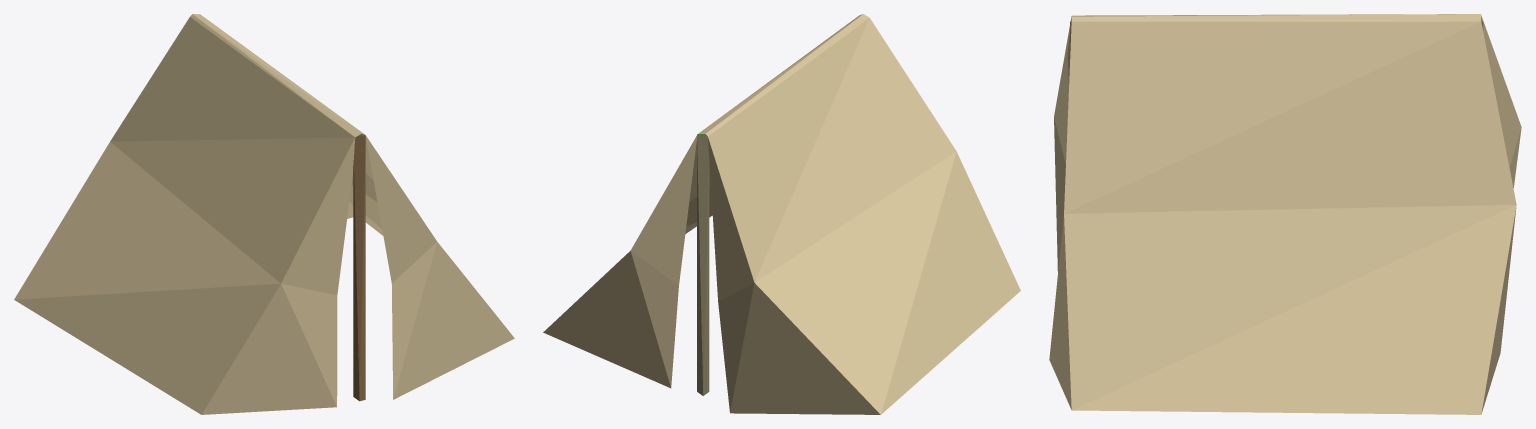
The model's file is Zelt_Mesh.fbx.
3 views of the same model, side by side, from view 1: azimuth 30°, elevation 25°; view 2: azimuth 150°, elevation 25°; view 3: azimuth 270°, elevation 25° (orthographic). The views are drawn at different scales.
Visible parts, largest first — view 1: Zelt; view 2: Zelt; view 3: Zelt.
Part boxes in pixels (box(x1,y1,x2,y2)): Zelt: box(14, 14, 514, 414); Zelt: box(543, 14, 1020, 414); Zelt: box(1049, 14, 1521, 414).
Size of the model in its own units: 89.16 by 67.66 by 85.5.
